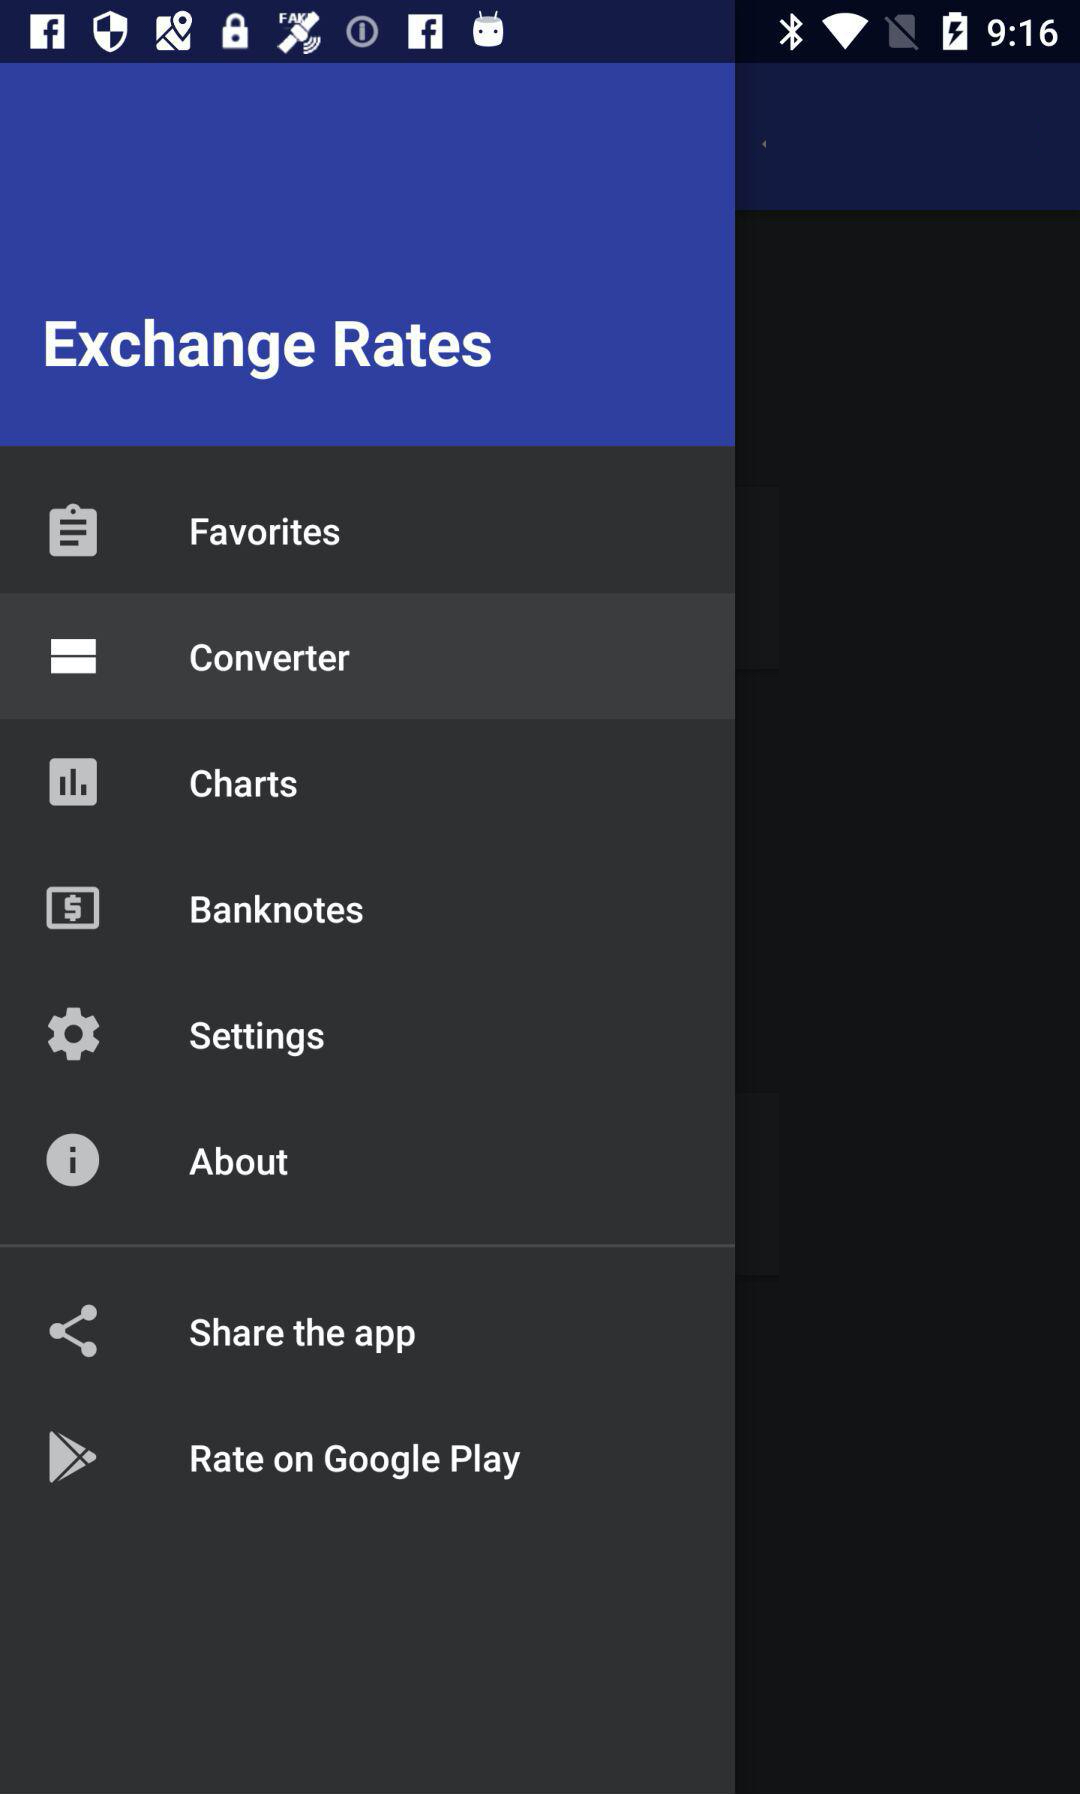Drawer: (1, 65, 735, 1794)
Icon: (46, 1132, 102, 1189), (47, 1006, 102, 1064), (47, 1303, 99, 1360), (49, 504, 100, 559), (47, 1429, 97, 1485), (49, 757, 99, 809), (46, 885, 101, 932), (50, 638, 97, 675)
Text: (44, 317, 493, 383), (190, 1442, 521, 1483), (190, 1316, 416, 1356), (190, 893, 365, 926), (190, 1020, 325, 1058), (190, 642, 352, 674), (190, 515, 342, 548), (190, 768, 300, 800), (190, 1146, 291, 1178)
UpperTaskBar: (1, 1, 1080, 64)
